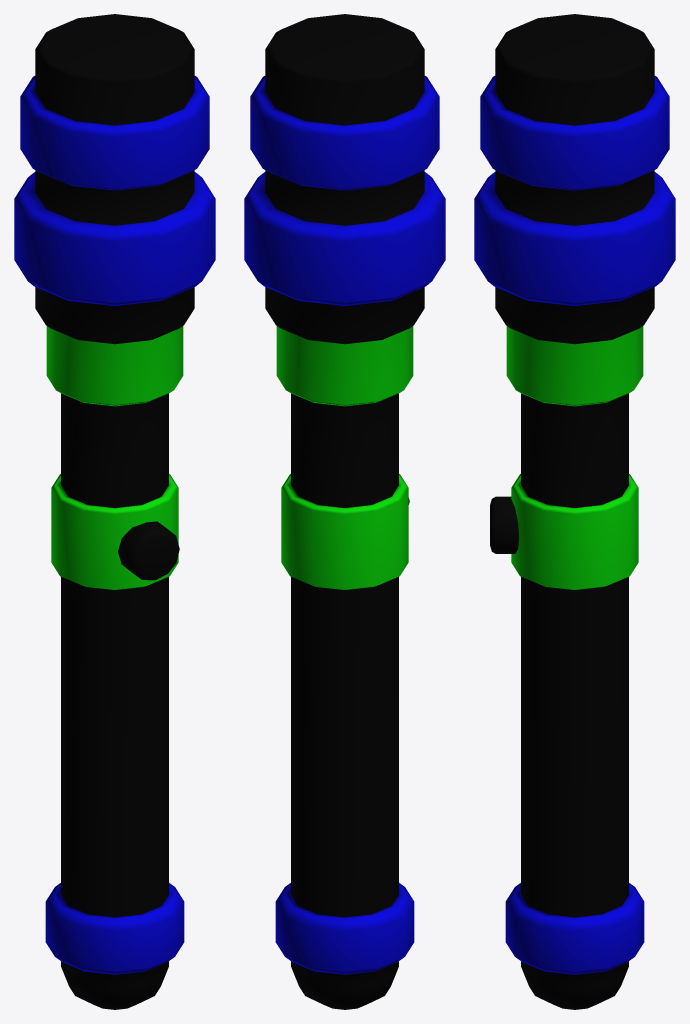
Rendered from Torch_Handle.fbx.
3 renders of one model, left to right at view 1: azimuth 30°, elevation 25°; view 2: azimuth 150°, elevation 25°; view 3: azimuth 270°, elevation 25°, orthographic.
Parts seen in each view (by area): view 1: Torch_Handle_Low; view 2: Torch_Handle_Low; view 3: Torch_Handle_Low.
Part boxes in pixels (x1,y1,x2,y2): Torch_Handle_Low: (14, 14, 215, 1009); Torch_Handle_Low: (244, 14, 445, 1009); Torch_Handle_Low: (474, 14, 675, 1009).
Size of the model in its own units: 6.8 by 35.69 by 6.8.
